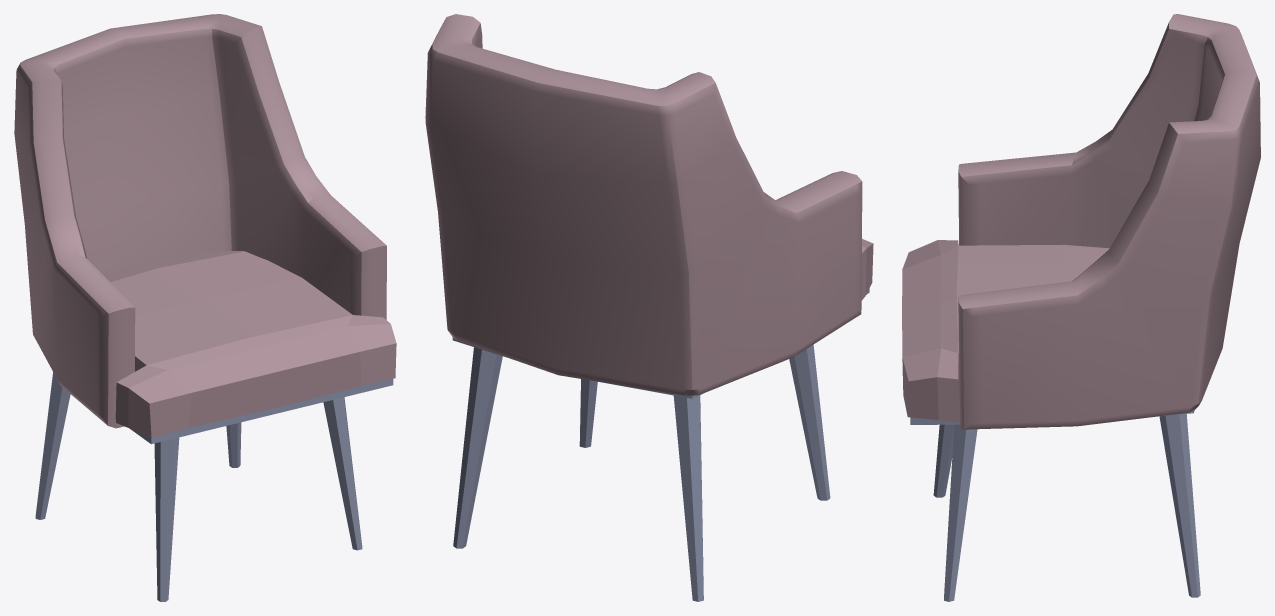
File: Office_Chair.fbx
3 views of the same model, side by side, from view 1: azimuth 30°, elevation 25°; view 2: azimuth 150°, elevation 25°; view 3: azimuth 270°, elevation 25° (orthographic). The views are drawn at different scales.
Visible parts, largest first — view 1: pCube2; view 2: pCube2; view 3: pCube2.
Part boxes in pixels (left/top/right/bottom): pCube2: left=14, top=14, right=396, bottom=601; pCube2: left=425, top=14, right=873, bottom=601; pCube2: left=902, top=14, right=1260, bottom=601.
Bounding box in the file's own units: 72.96 × 109 × 74.78.
